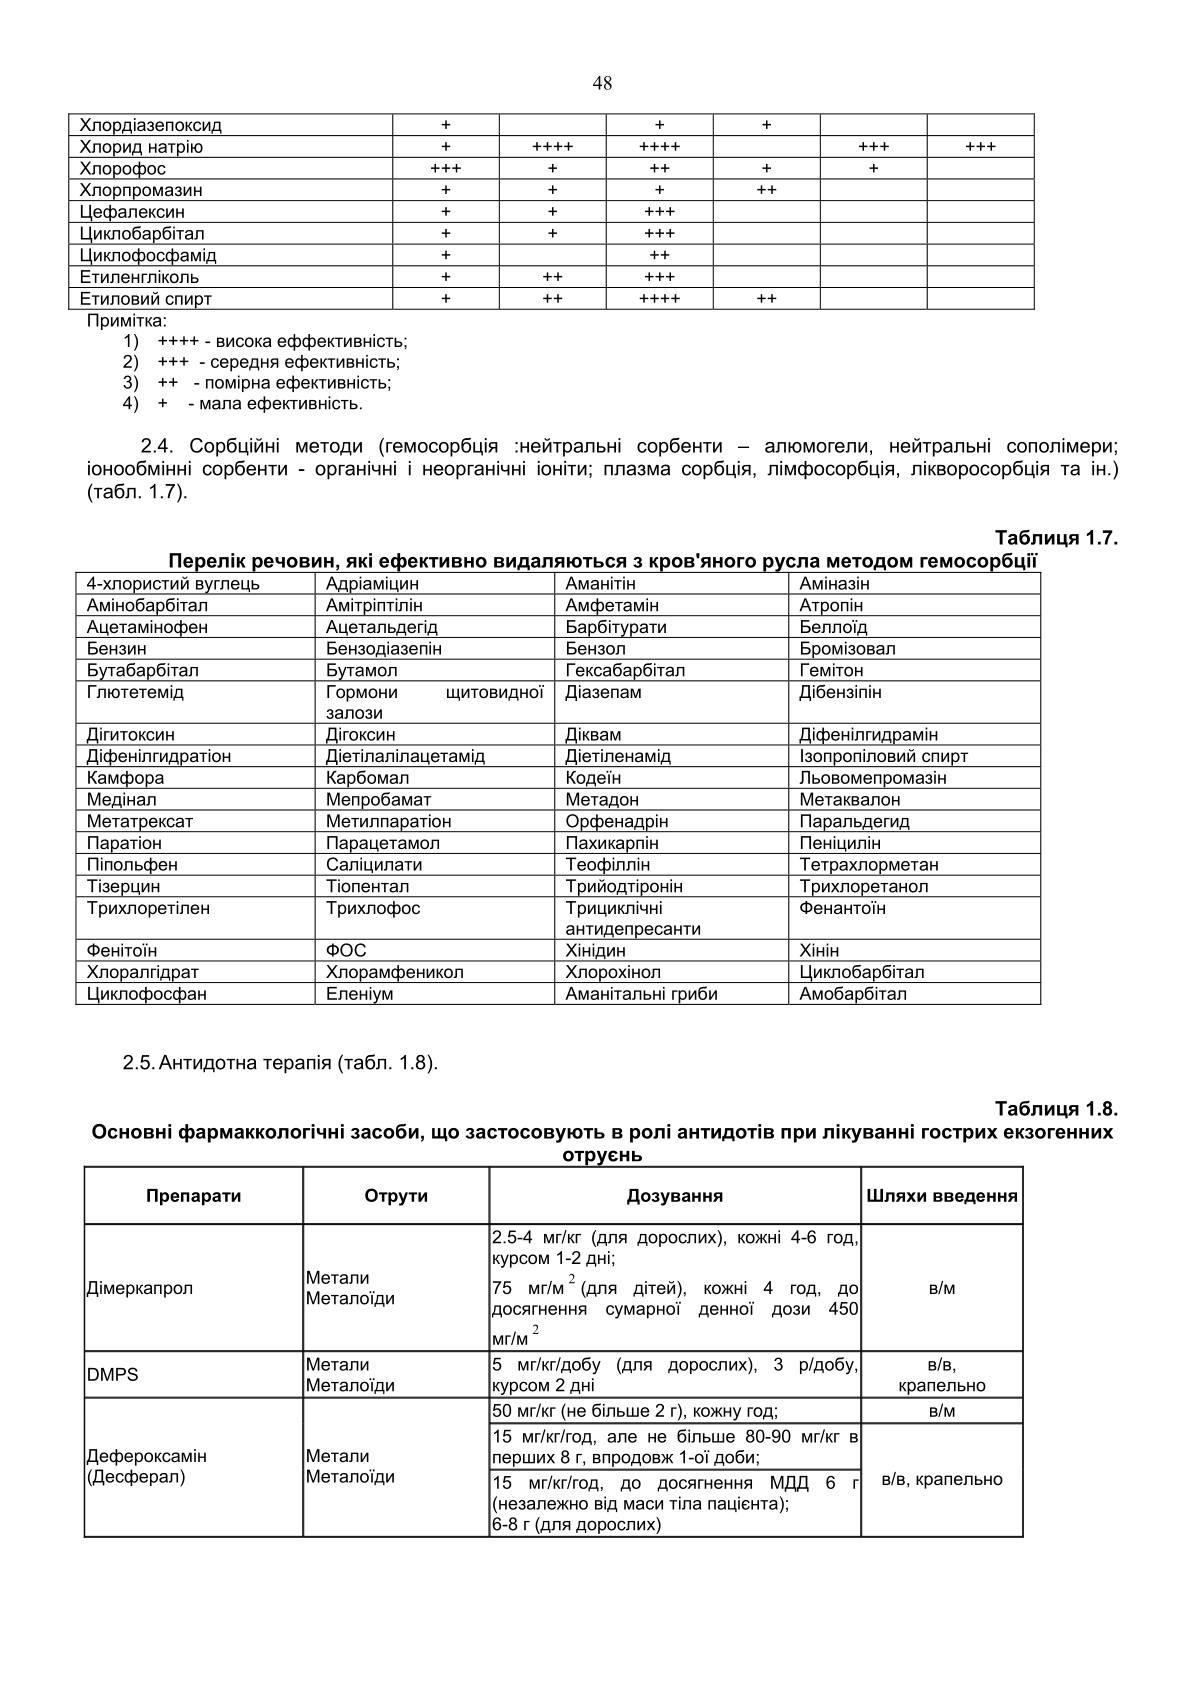full_lined: (73, 571, 1041, 1005), (82, 1165, 1023, 1538), (68, 113, 1035, 311)
